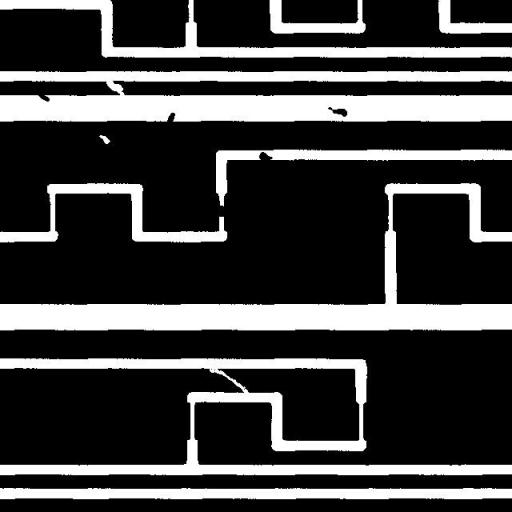copper: (320, 99, 354, 124)
open: (194, 357, 257, 402), (98, 72, 133, 106)
pin-hole: (91, 127, 118, 151)
short: (205, 198, 241, 224)
spur: (251, 144, 280, 174), (158, 105, 182, 132), (30, 85, 57, 109)
